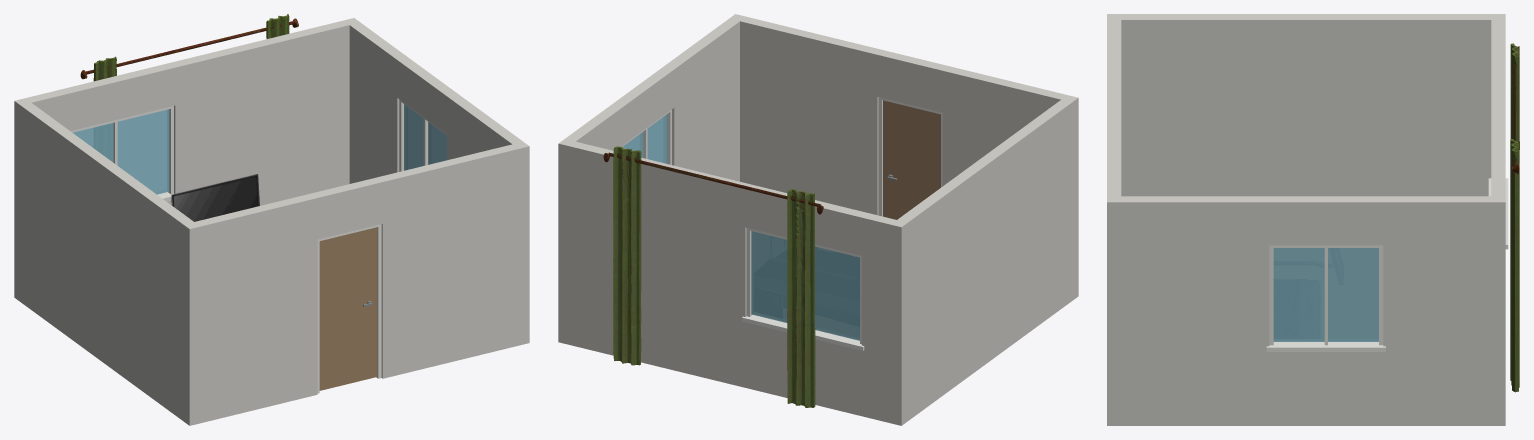
The model's file is layoutgpt.glb.
The picture shows the model from 3 angles, left to right: view 1: azimuth 30°, elevation 25°; view 2: azimuth 150°, elevation 25°; view 3: azimuth 270°, elevation 25°; orthographic projection. The views are drawn at different scales.
Visible parts, largest first — view 1: wall|scenesmith_020__R00|0, wall|scenesmith_020__R00|2, wall|scenesmith_020__R00|1, wall|scenesmith_020__R00|3, wall|scenesmith_020__R00|0 Door 0 | wood leaf, wall|scenesmith_020__R00|1 Window 0 | glazing, scenesmith_020__R00_5, wall|scenesmith_020__R00|3 Window 0 | glazing, scenesmith_020__R00_3, wall|scenesmith_020__R00|0 Door 0 | jamb, wall|scenesmith_020__R00|1 Window 0 | jamb, wall|scenesmith_020__R00|3 Window 0 | jamb; view 2: wall|scenesmith_020__R00|1, wall|scenesmith_020__R00|2, wall|scenesmith_020__R00|0, wall|scenesmith_020__R00|3, scenesmith_020__R00_3, wall|scenesmith_020__R00|1 Window 0 | glazing, wall|scenesmith_020__R00|0 Door 0 | wood leaf, wall|scenesmith_020__R00|1 Window 0 | jamb, wall|scenesmith_020__R00|3 Window 0 | glazing, wall|scenesmith_020__R00|0 Door 0 | jamb, wall|scenesmith_020__R00|3 Window 0 | jamb; view 3: wall|scenesmith_020__R00|3, wall|scenesmith_020__R00|2, wall|scenesmith_020__R00|3 Window 0 | glazing, wall|scenesmith_020__R00|1, wall|scenesmith_020__R00|0, scenesmith_020__R00_3, wall|scenesmith_020__R00|3 Window 0 | jamb.
Part boxes in pixels (x1,y1,x2,y2): wall|scenesmith_020__R00|0: (189, 144, 518, 425); wall|scenesmith_020__R00|2: (20, 103, 199, 425); wall|scenesmith_020__R00|1: (14, 18, 359, 301); wall|scenesmith_020__R00|3: (349, 22, 529, 345); wall|scenesmith_020__R00|0 Door 0 | wood leaf: (319, 227, 377, 390); wall|scenesmith_020__R00|1 Window 0 | glazing: (73, 109, 169, 194); scenesmith_020__R00_5: (171, 174, 259, 221); wall|scenesmith_020__R00|3 Window 0 | glazing: (404, 104, 447, 170); scenesmith_020__R00_3: (80, 14, 298, 81); wall|scenesmith_020__R00|0 Door 0 | jamb: (317, 224, 381, 393); wall|scenesmith_020__R00|1 Window 0 | jamb: (70, 106, 173, 201); wall|scenesmith_020__R00|3 Window 0 | jamb: (399, 99, 447, 171); wall|scenesmith_020__R00|1: (559, 139, 907, 425); wall|scenesmith_020__R00|2: (890, 95, 1078, 425); wall|scenesmith_020__R00|0: (740, 16, 1067, 215); wall|scenesmith_020__R00|3: (558, 14, 745, 344); scenesmith_020__R00_3: (603, 146, 823, 407); wall|scenesmith_020__R00|1 Window 0 | glazing: (751, 231, 859, 340); wall|scenesmith_020__R00|0 Door 0 | wood leaf: (883, 100, 940, 219); wall|scenesmith_020__R00|1 Window 0 | jamb: (742, 228, 864, 350); wall|scenesmith_020__R00|3 Window 0 | glazing: (623, 114, 667, 163); wall|scenesmith_020__R00|0 Door 0 | jamb: (878, 97, 942, 216); wall|scenesmith_020__R00|3 Window 0 | jamb: (623, 109, 671, 164); wall|scenesmith_020__R00|3: (1107, 196, 1491, 425); wall|scenesmith_020__R00|2: (1107, 14, 1491, 196); wall|scenesmith_020__R00|3 Window 0 | glazing: (1273, 248, 1378, 341); wall|scenesmith_020__R00|1: (1491, 14, 1505, 425); wall|scenesmith_020__R00|0: (1107, 20, 1121, 425); scenesmith_020__R00_3: (1510, 43, 1519, 392); wall|scenesmith_020__R00|3 Window 0 | jamb: (1266, 245, 1385, 351).
Size of the model in its own units: 4.73 by 2.81 by 4.35.
12 materials, 6 textured.
